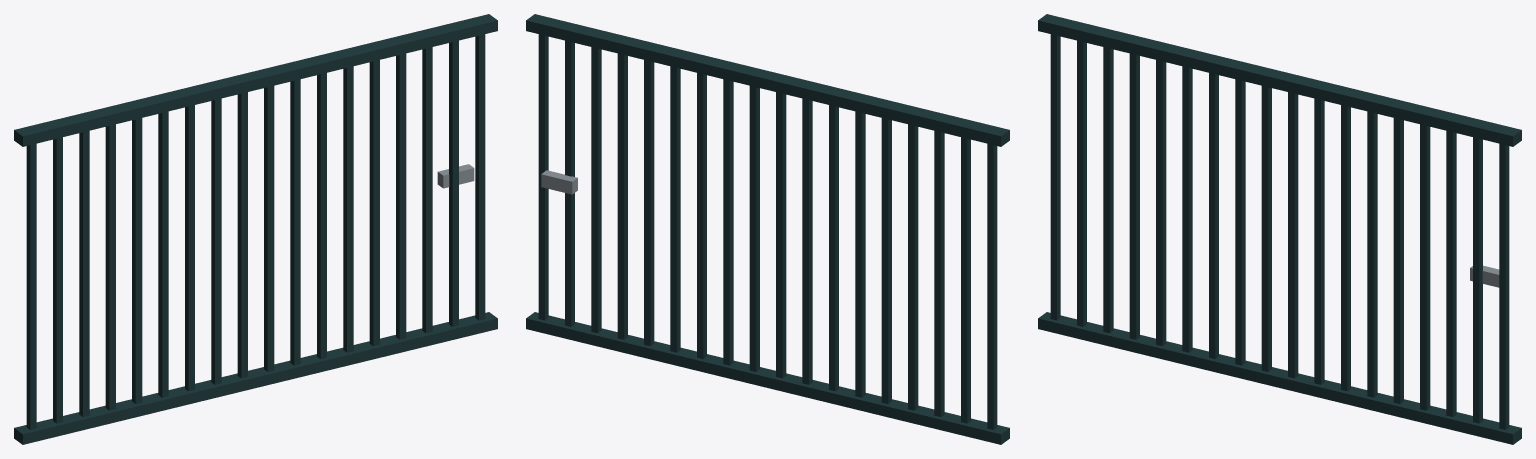
The model's file is bars_gate_leaf_S.fbx.
The picture shows the model from 3 angles, left to right: view 1: azimuth 30°, elevation 25°; view 2: azimuth 150°, elevation 25°; view 3: azimuth 330°, elevation 25°; orthographic projection.
Parts seen in each view (by area): view 1: bars_gate_leaf_S; view 2: bars_gate_leaf_S; view 3: bars_gate_leaf_S.
Boxes of the visible parts, bbox=[...] form: bars_gate_leaf_S: bbox=[14, 14, 497, 444]; bars_gate_leaf_S: bbox=[526, 14, 1009, 444]; bars_gate_leaf_S: bbox=[1038, 14, 1521, 444].
Size of the model in its own units: 2.9 by 1.8 by 0.12.
